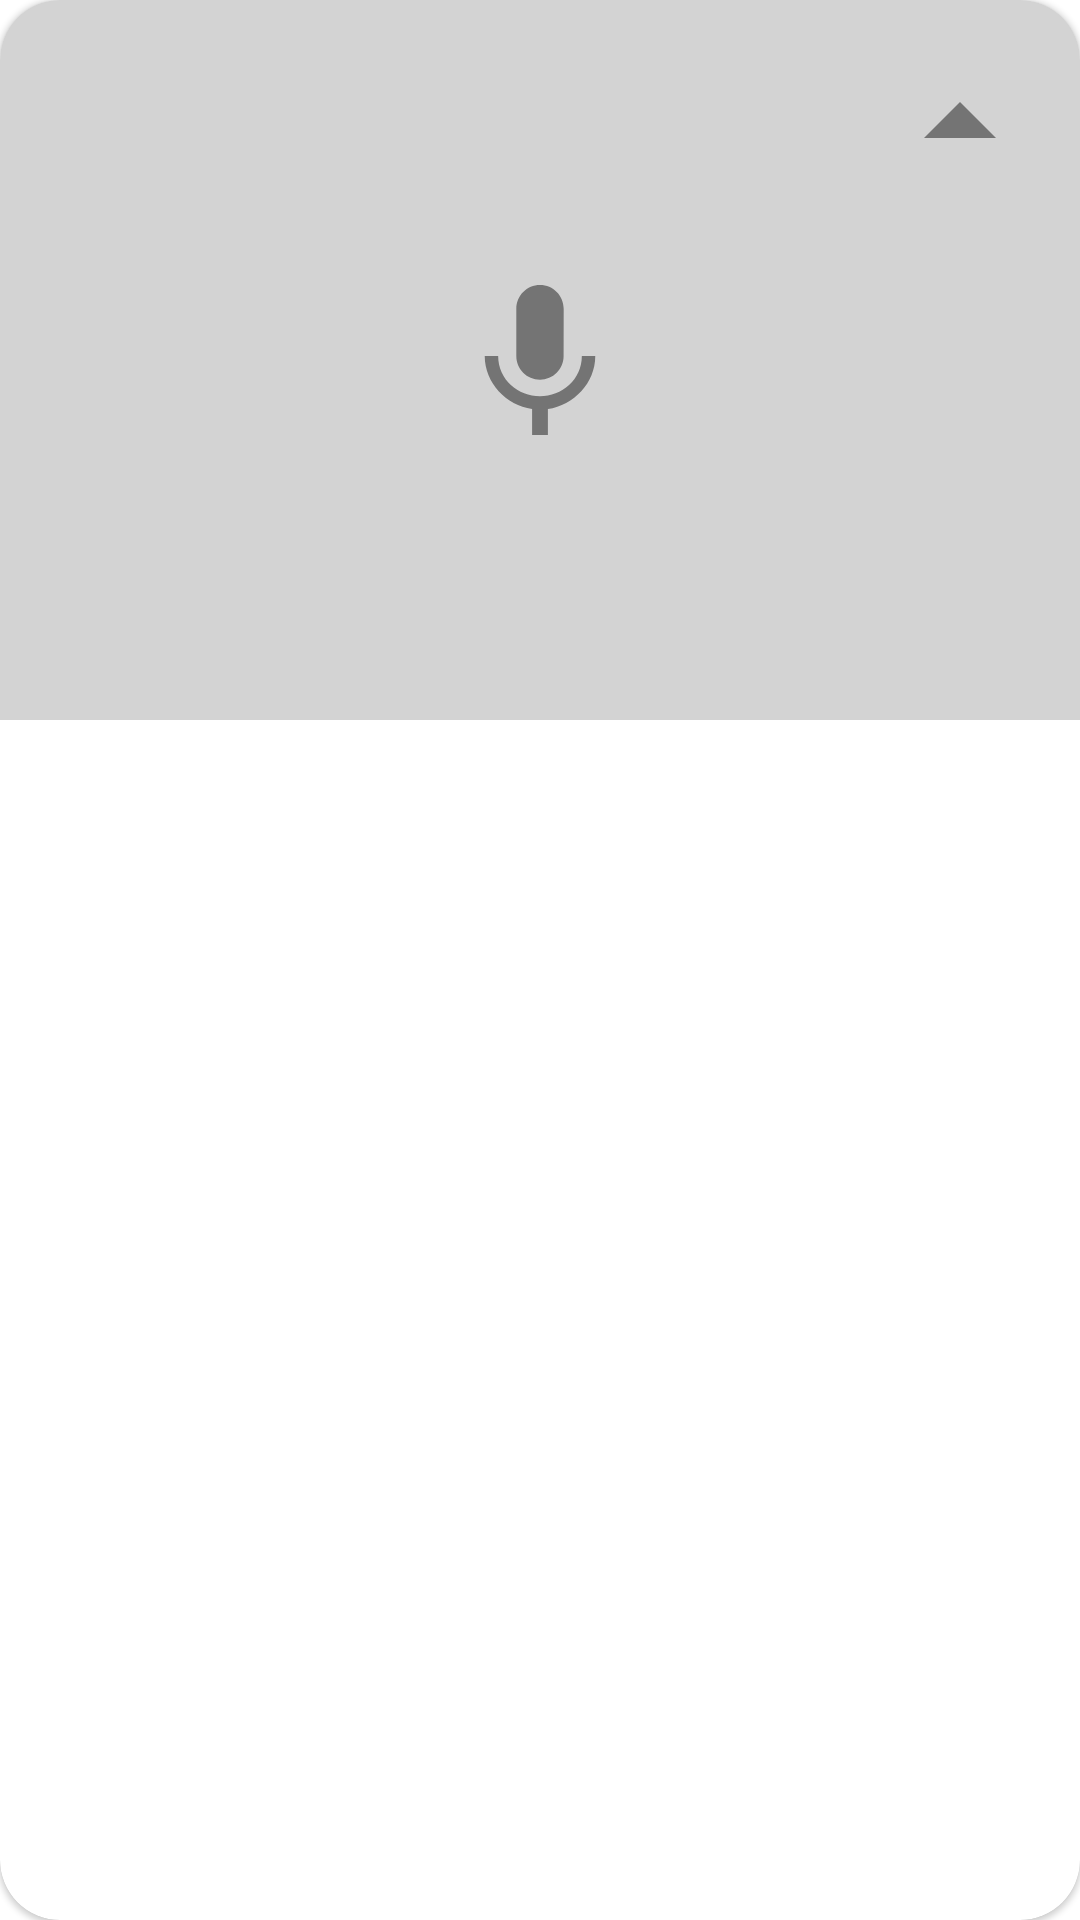

Named icons in this screenshot (1080x1920) and their centers, point (x, y):
arrow up: point (960, 120)
mic: point (540, 360)
